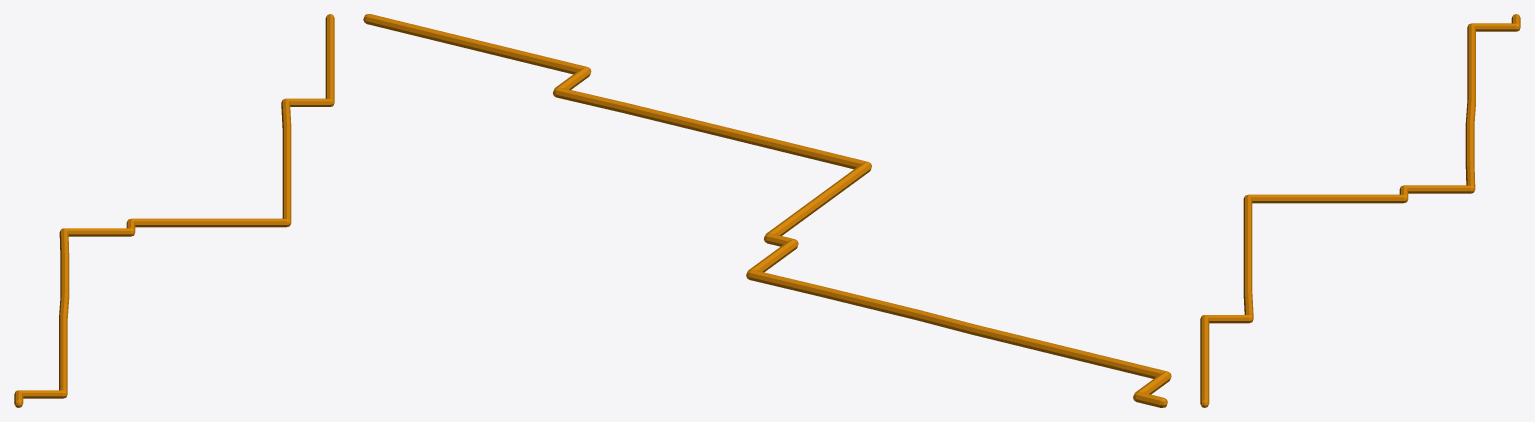
The picture shows the model from 3 angles, left to right: view 1: azimuth 90°, elevation 25°; view 2: azimuth 150°, elevation 25°; view 3: azimuth 270°, elevation 25°; orthographic projection. The views are drawn at different scales.
Bounding box in the file's own units: 2067 × 20 × 719.
